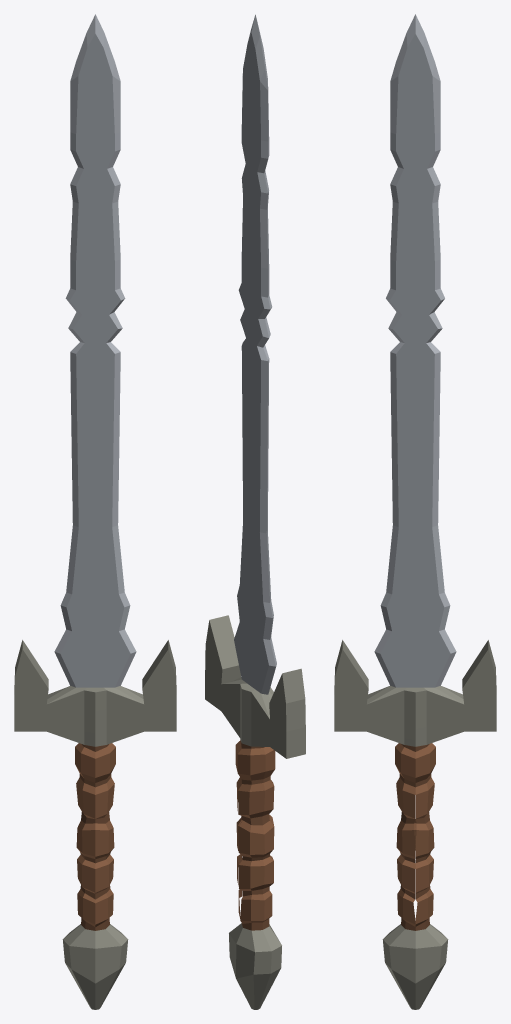
Rendered from claymore.glb.
3 views of the same model, side by side, from view 1: azimuth 90°, elevation 25°; view 2: azimuth 210°, elevation 25°; view 3: azimuth 270°, elevation 25° (orthographic).
Visible parts, largest first — view 1: claymore; view 2: claymore; view 3: claymore.
Part boxes in pixels (box(x1,y1,x2,y2)): claymore: box(14, 14, 176, 1009); claymore: box(205, 14, 305, 1009); claymore: box(334, 14, 496, 1009).
Size of the model in its own units: 0.0617 by 1.5 by 0.2224.
